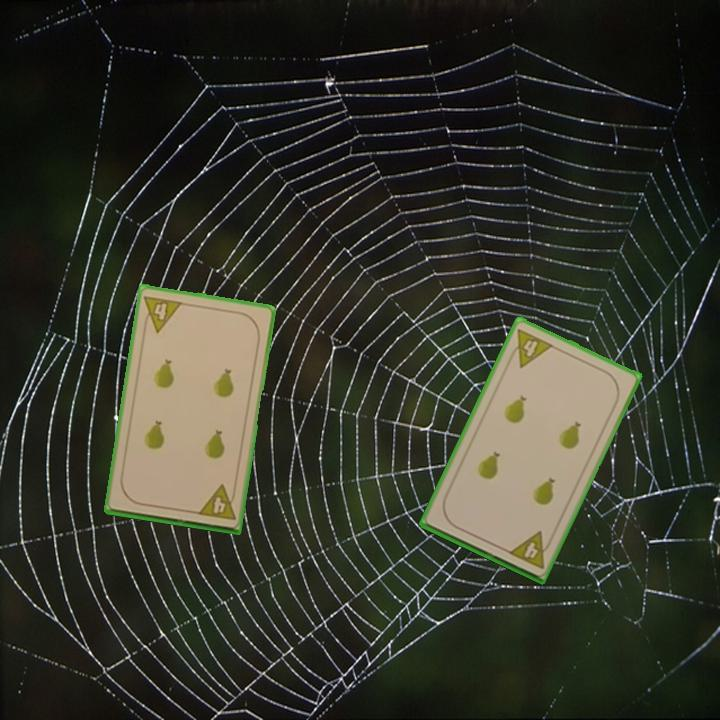4p: (504, 325, 556, 370), (504, 528, 555, 572), (139, 292, 185, 335), (194, 481, 239, 523)
